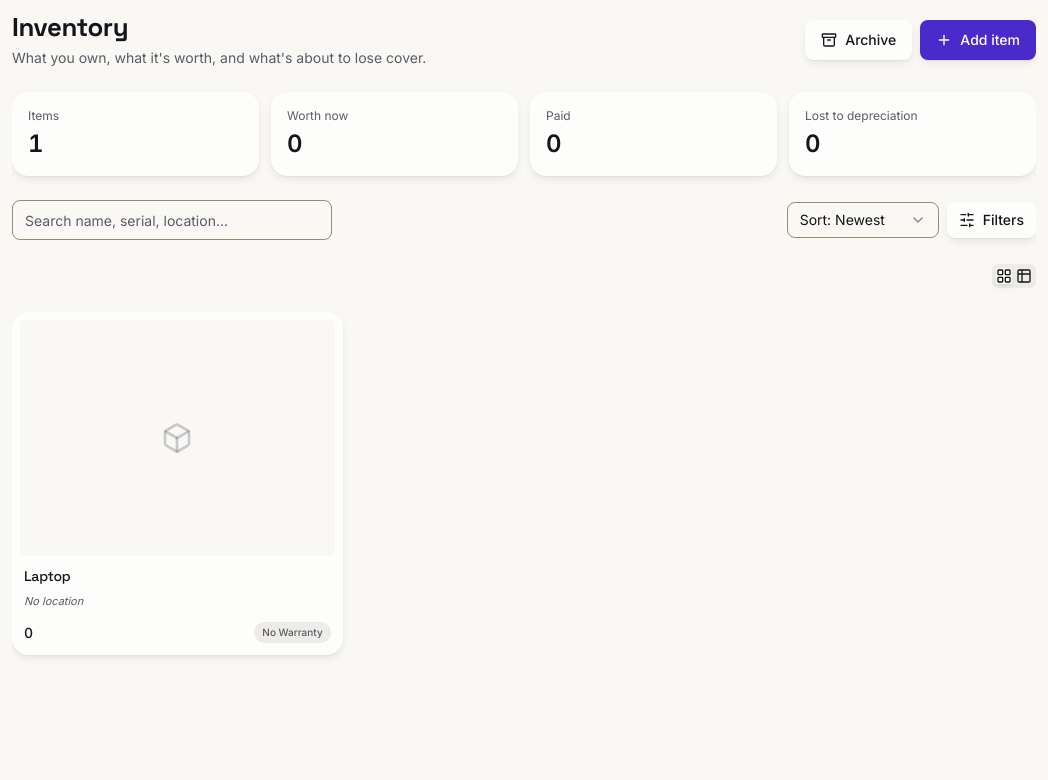
Scenario: InventoryPage › shows the serial number in the table view
The image size is (1048, 780).
Click the radio button named "Table view": (1024, 276) left=1016, top=268, right=1032, bottom=284
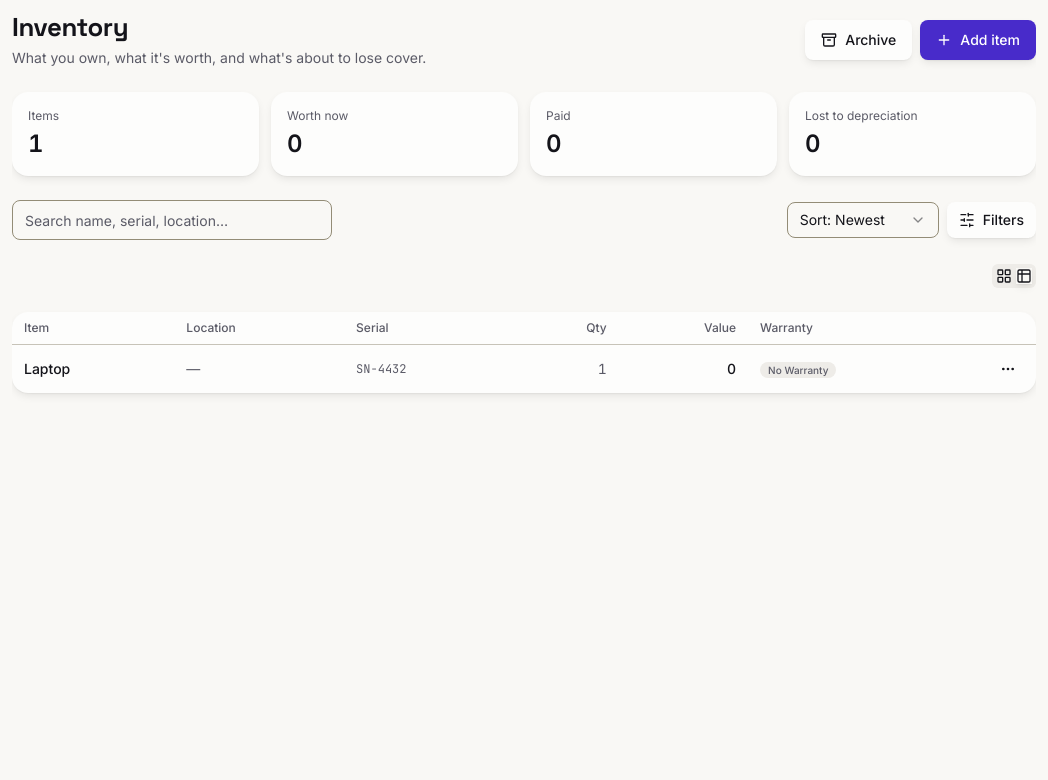
Expected: the text "SN-4432" is shown, left=344, top=345, right=516, bottom=393
